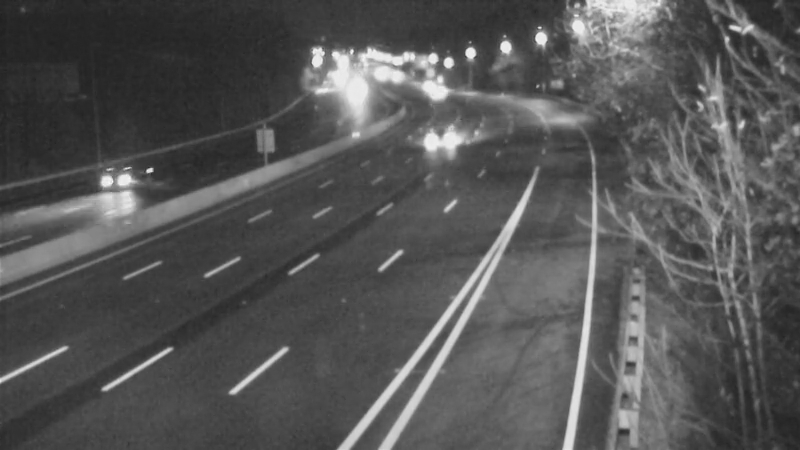vehicle: (85, 140, 165, 220), (403, 60, 453, 110), (407, 68, 457, 118), (422, 115, 472, 165)
